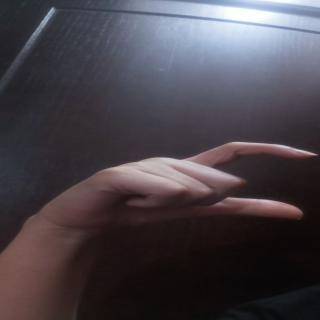DELL: (70, 134, 320, 238)
